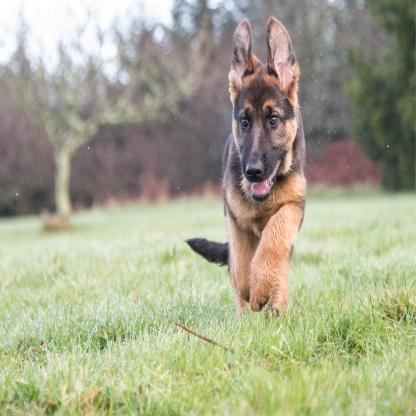german shepherd: (185, 20, 306, 314)
